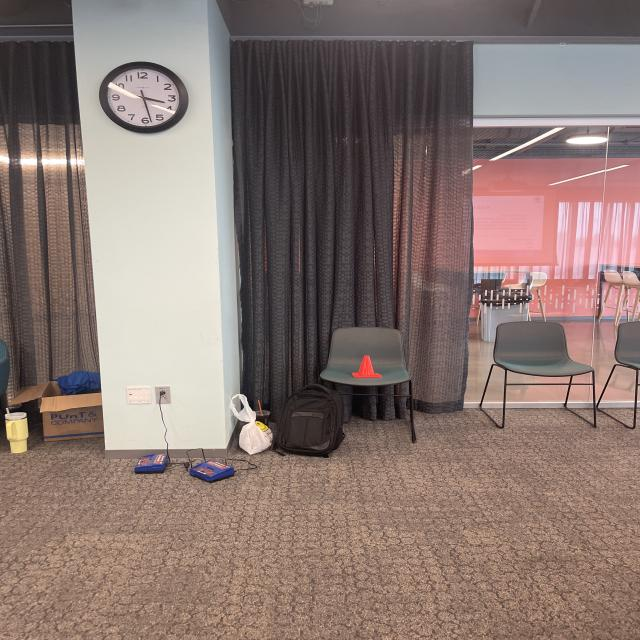Traffic Cone: (352, 356, 384, 378)
